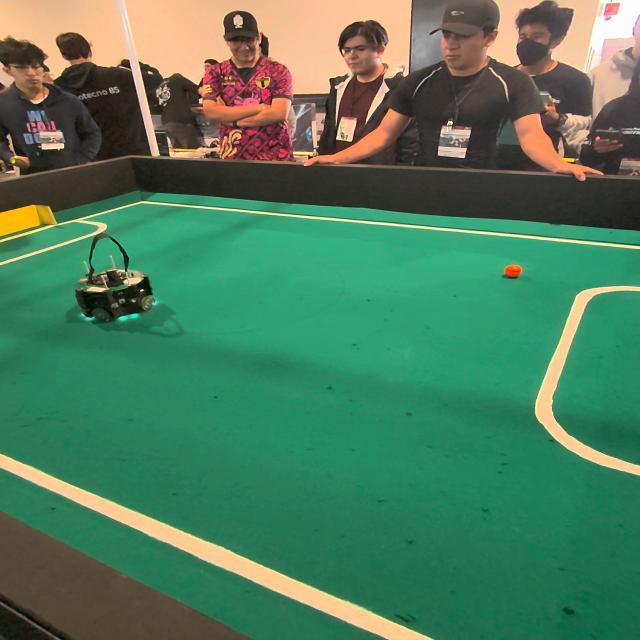Robot: (68, 229, 160, 334)
pelota: (494, 262, 528, 286)
